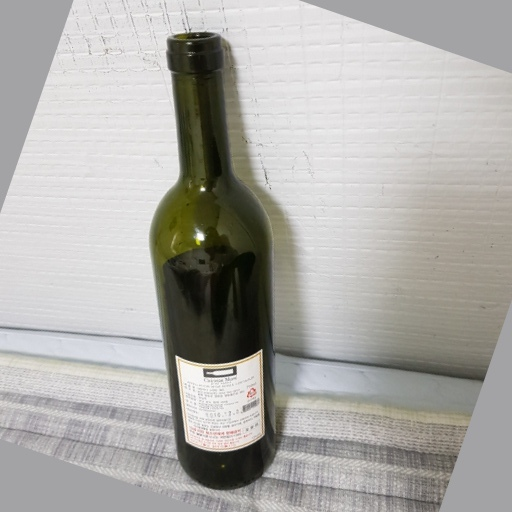Glass_2: (141, 27, 288, 496)
